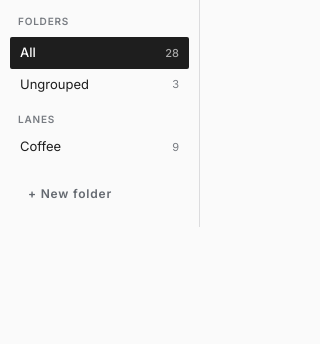
it: FolderSidebar › keeps the create form open and shows action errors
Click the button "+ New folder" at coordinates (100, 194), box top-left (18, 178), bottom-right (181, 208)
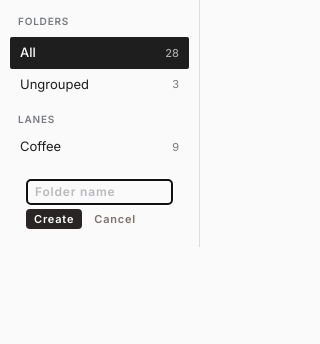
Type "Travel" into the field named "New folder name" at coordinates (100, 192), box top-left (26, 178), bottom-right (173, 204)
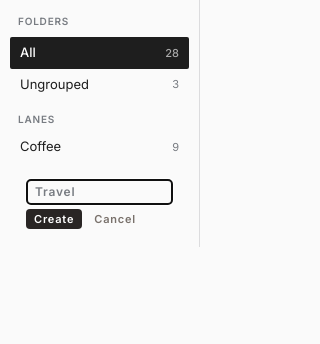
Click the button "Create" at coordinates (54, 219), box top-left (26, 208), bottom-right (82, 229)
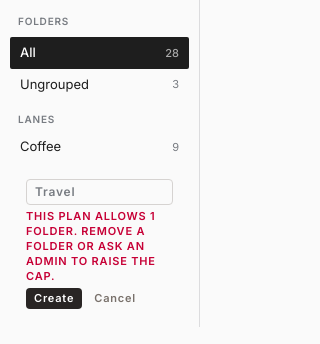
Check: the message shows "This plan allows 1 folder", box top-left (26, 208), bottom-right (156, 283)
